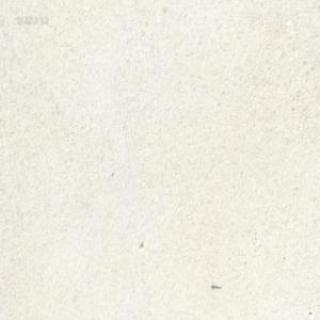Nailtrack_idkeyframe: (210, 280, 220, 288)
